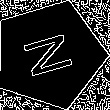N_E: (18, 28, 81, 81)
